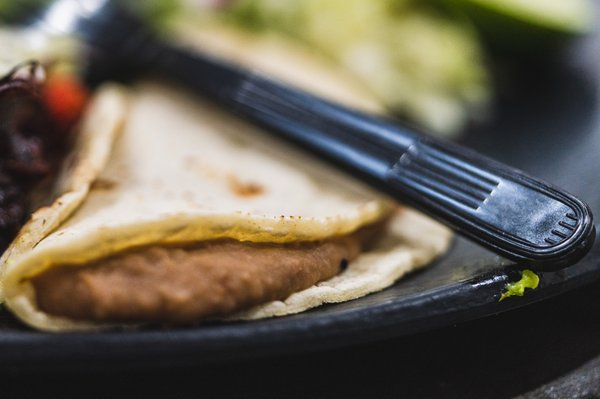burger: (122, 13, 600, 277)
sandwich: (84, 6, 598, 271)
soup: (1, 69, 452, 330)
